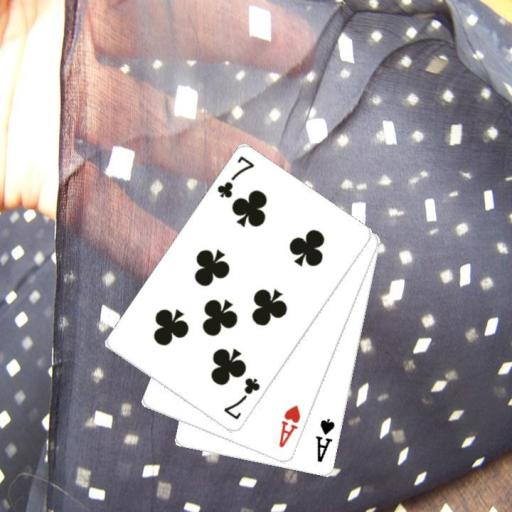7C: (213, 153, 256, 200), (221, 374, 263, 422)
AH: (276, 402, 302, 449)
AS: (313, 416, 337, 464)
